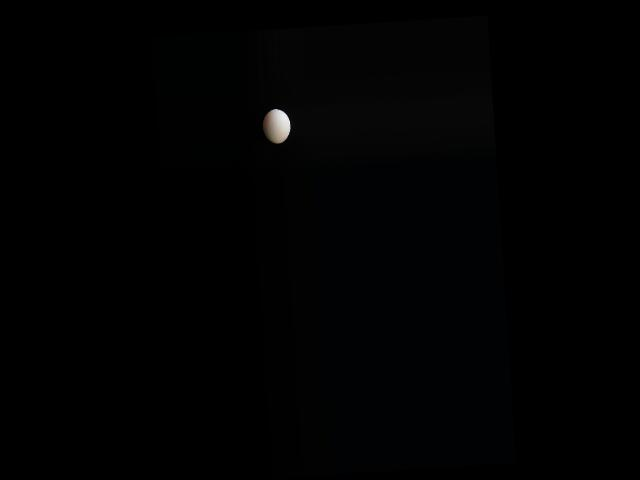egg: (261, 109, 291, 145)
